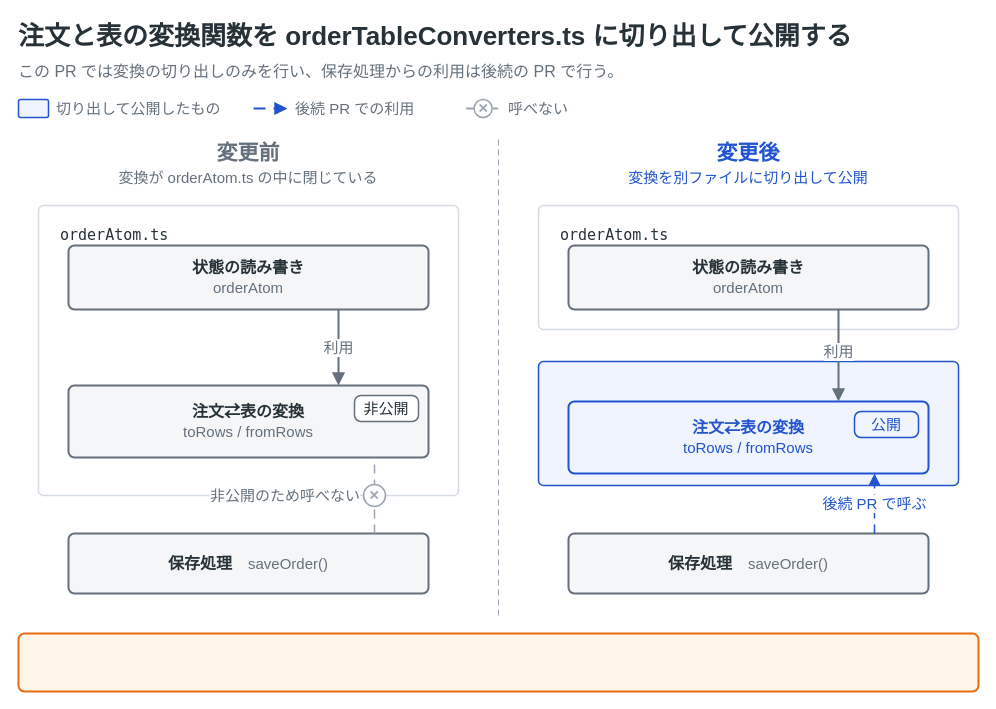
The diagram is 996 pixels wide and 709 high, and some of its shapes have lost their labels. Here are the shapes that lost their labels. From the top down, the box of each, then its label:
(537, 360, 959, 486): orderTableConverters.ts
(17, 632, 979, 692): 今回の効果 保存処理から同じ変換を使う入口ができた。変換の内容や今の保存の流れは変えていない。
